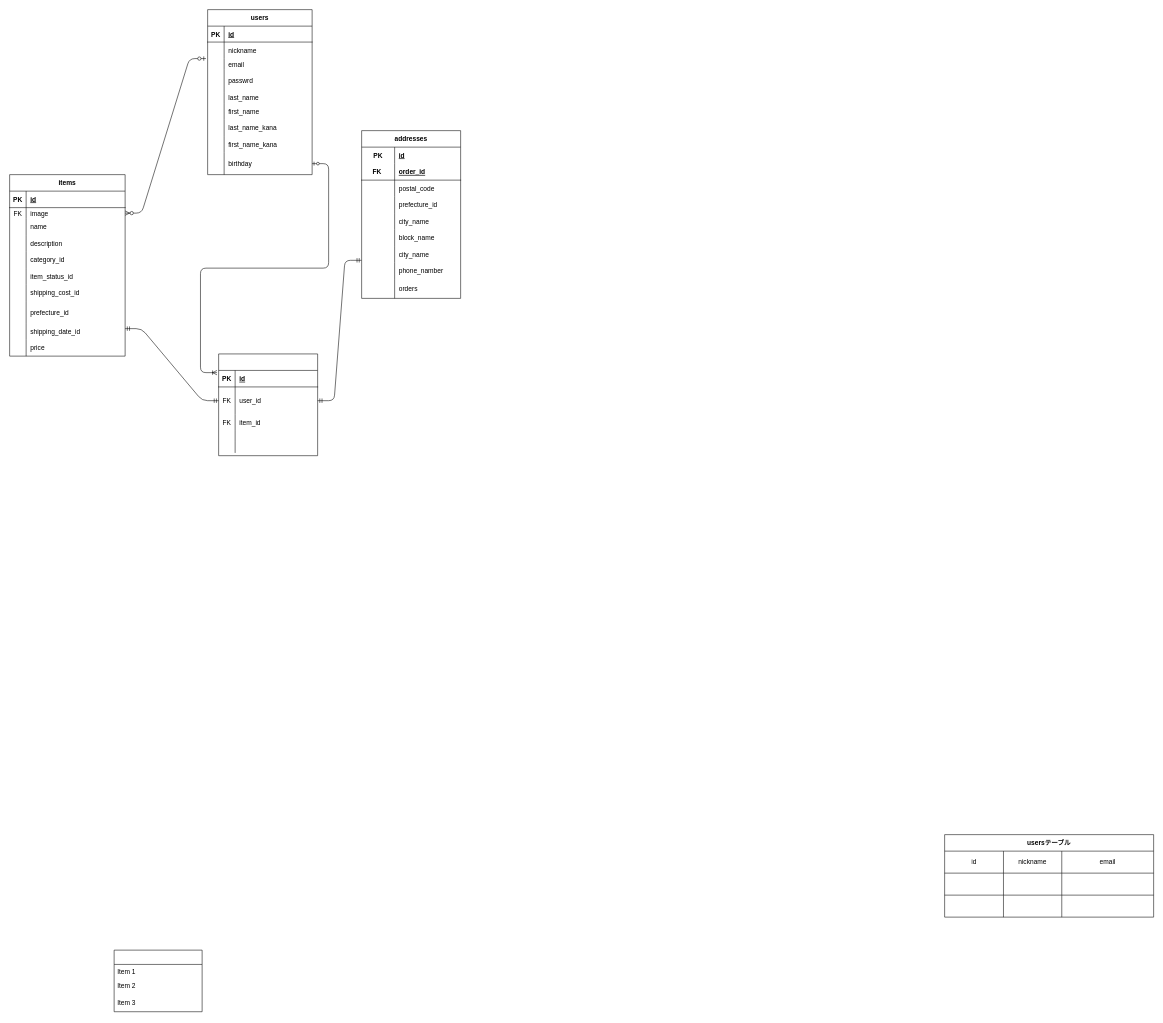
Some shapes in this 1163 by 1023 pixel diagram are drawn without their labels. Each missing label, with the box of its shape:
order: (218, 353, 318, 456)
配送先情報: (114, 950, 202, 1012)
